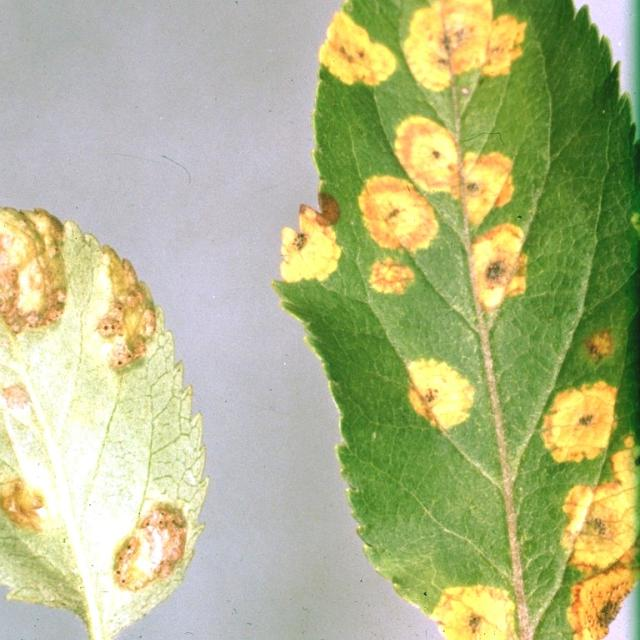Gymnosporangium_Rusts: (272, 1, 638, 637), (0, 204, 210, 637)
